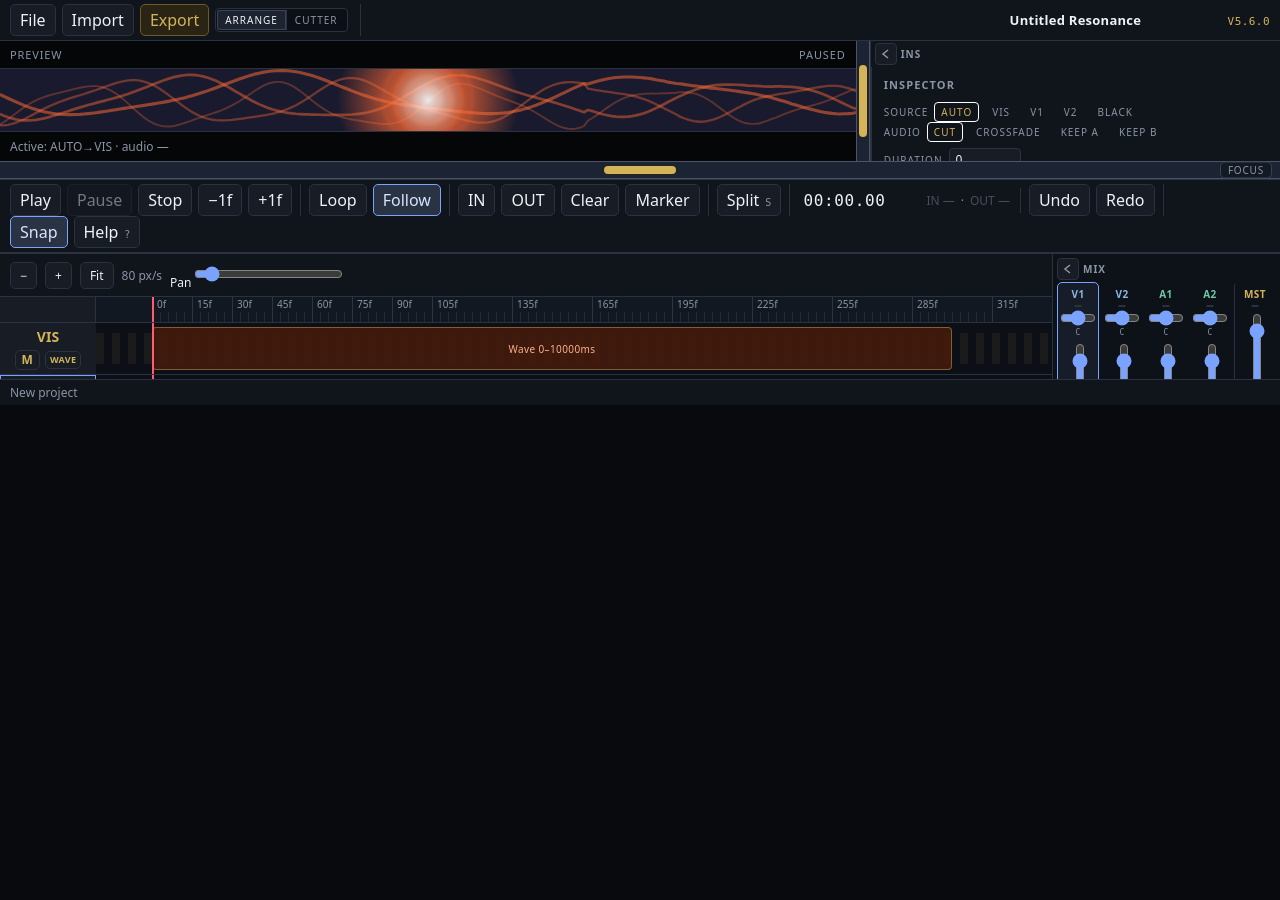
Scenario: toolbar File button › File toggles the project panel; Import stays in the toolbar
The width and height of the screenshot is (1280, 900).
Click the button with test id "toolbar-file".
click(33, 20)  # box [10,4,56,36]
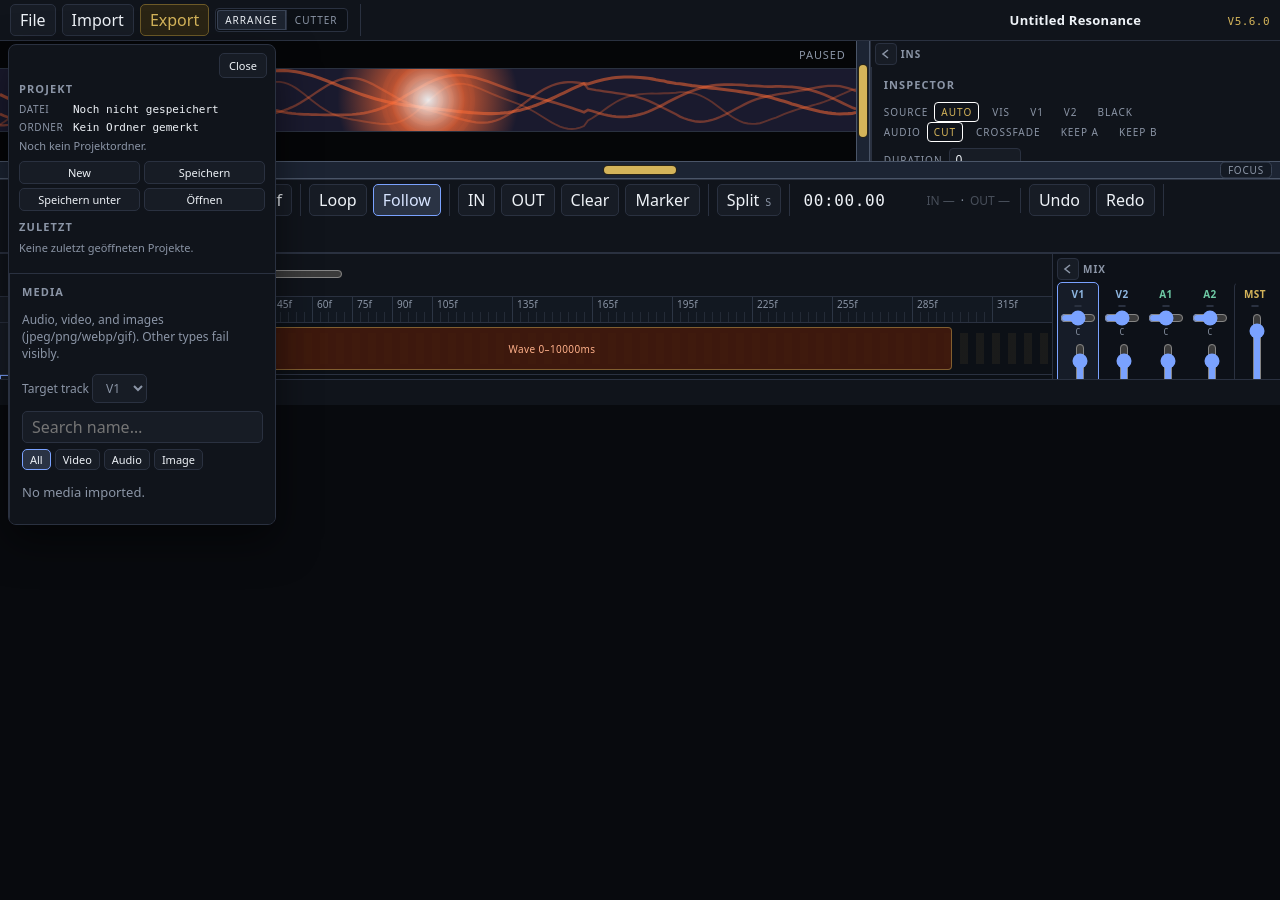
Now the element with test id "project-file-panel" is shown, box [9,73,275,274]
Now the button with test id "project-new" reads "New", box [19,161,140,184]
Now the button with test id "save-project" is shown, box [144,161,265,184]
